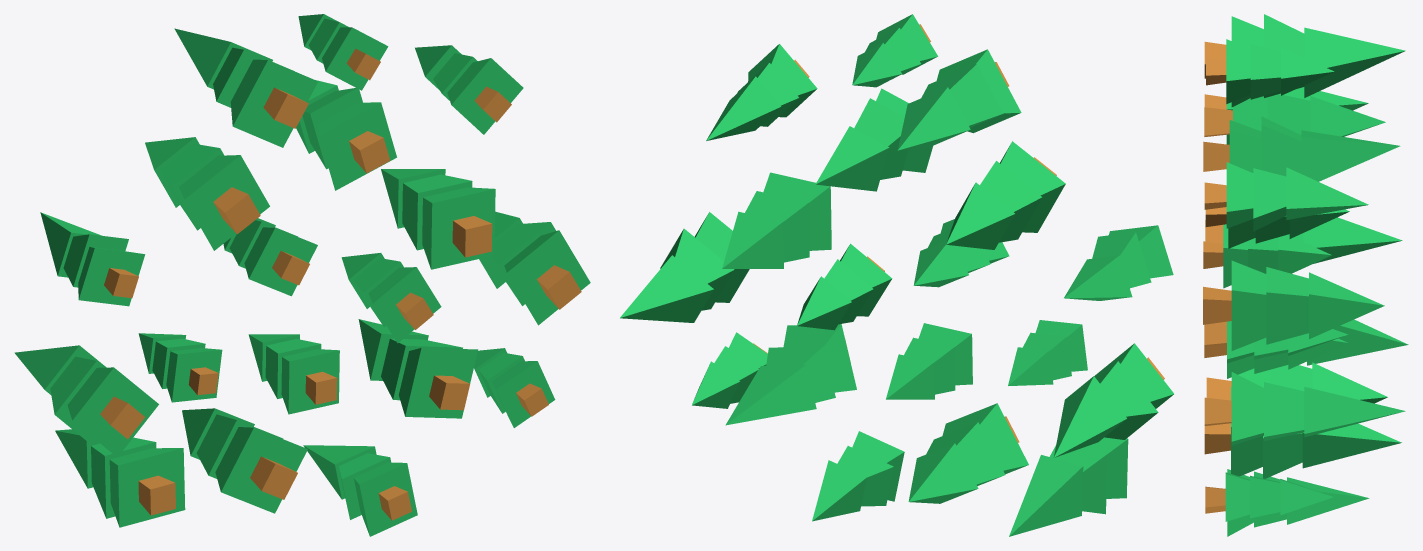
The model's file is nature_taigaRiver.fbx.
The picture shows the model from 3 angles, left to right: view 1: azimuth 30°, elevation 25°; view 2: azimuth 150°, elevation 25°; view 3: azimuth 270°, elevation 25°; orthographic projection. The views are drawn at different scales.
Parts seen in each view (by area): view 1: Taiga; view 2: Taiga; view 3: Taiga.
Part boxes in pixels (bbox=[...]): Taiga: bbox=[14, 14, 590, 536]; Taiga: bbox=[620, 14, 1173, 536]; Taiga: bbox=[1203, 14, 1408, 536].
Size of the model in its own units: 179 by 169 by 66.09.
